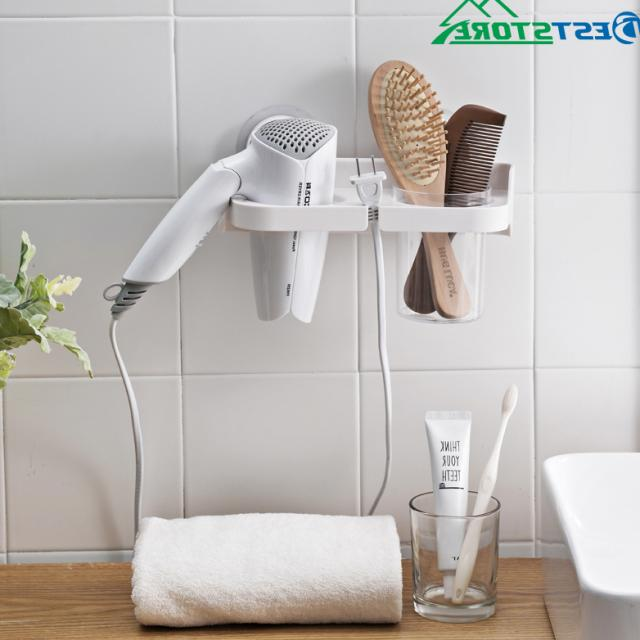dryer: (82, 90, 350, 503), (98, 111, 340, 340)
